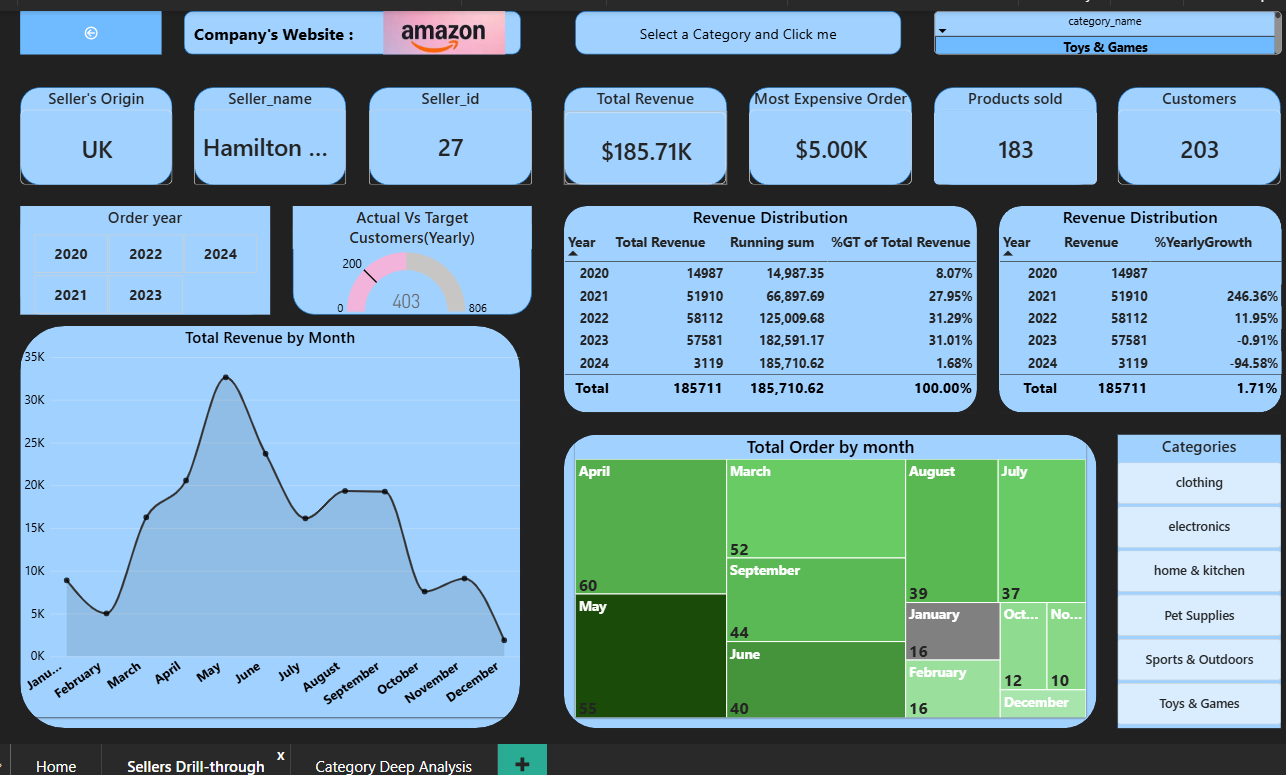

The page's visual inventory and layout, read from the dashboard file:
{"tool":"powerbi","page":{"name":"Sellers Drill-through","canvas":[1920,1080],"ordinal":1},"visuals":[{"type":"shape","box":[1472,288,416,304],"z":0},{"type":"shape","box":[832,288,608,304],"z":1000},{"type":"shape","box":[32,464,736,592],"z":2000},{"type":"shape","box":[1376,112,240,144],"z":3000},{"type":"shape","box":[432,288,352,160],"z":4000},{"type":"shape","box":[544,112,240,144],"z":5000},{"type":"shape","box":[1104,112,240,144],"z":6000},{"type":"shape","box":[848,0,480,64],"z":7000},{"type":"shape","box":[32,112,224,144],"z":8000},{"type":"shape","box":[288,112,224,144],"z":9000},{"type":"shape","box":[832,112,240,144],"z":10000},{"type":"shape","box":[272,0,496,64],"z":11000},{"type":"shape","box":[1648,112,240,144],"z":12000},{"type":"advancedSlicerVisual","title":"Seller_id","fields":{"Values":["sellers.seller_id"]},"box":[544,112,240,144],"z":13000},{"type":"advancedSlicerVisual","fields":{"Values":["sellers.seller_name"]},"box":[288,112,224,144],"z":14000},{"type":"cardVisual","title":"Total Revenue","fields":{"Data":["order_items.Total Across revenue"]},"box":[832,112,240,144],"z":15000},{"type":"actionButton","box":[32,0,208,64],"z":16000},{"type":"shape","box":[32,288,368,160],"z":17000},{"type":"shape","box":[832,624,784,432],"z":18000},{"type":"stackedAreaChart","fields":{"Category":["shipping.orders.order_date.Variation.Date Hierarchy.Month"],"Y":["_measures.Total Across revenue"]},"box":[32,464,736,576],"z":19000},{"type":"slicer","title":"Order year","fields":{"Values":["orders.Order_year"]},"box":[32,288,368,160],"z":20000},{"type":"cardVisual","title":"Customers","fields":{"Data":["Count(orders.customer_id)"]},"box":[1648,112,240,144],"z":21000},{"type":"cardVisual","title":"Most Expensive Order","fields":{"Data":["_measures.Maximum orderedamount"]},"box":[1104,112,240,144],"z":22000},{"type":"gauge","title":"Actual Vs Target Customers(Yearly)","fields":{"TargetValue":["_measures.Target Customers"],"Y":["CountNonNull(orders.customer_id)"]},"box":[432,288,352,160],"z":23000},{"type":"cardVisual","title":"Seller''s Origin","fields":{"Data":["Min(sellers.origin)"]},"box":[32,112,224,144],"z":24000},{"type":"cardVisual","title":"Products sold","fields":{"Data":["Count(order_items.product_id)"]},"box":[1376,112,240,144],"z":25000},{"type":"shape","box":[1648,624,240,432],"z":26000},{"type":"treemap","title":"Total Order by month","fields":{"Group":["shipping.orders.order_date.Variation.Date Hierarchy.Month"],"Values":["CountNonNull(order_items.order_id)"]},"box":[848,624,752,416],"z":27000},{"type":"advancedSlicerVisual","title":"Categories","fields":{"Values":["category.category_name"]},"box":[1648,624,240,432],"z":28000},{"type":"textbox","box":[288,16,304,48],"z":29000},{"type":"image","box":[560,0,192,64],"z":30000},{"type":"tableEx","fields":{"Values":["category.category_name"]},"box":[1376,0,512,64],"z":31000},{"type":"tableEx","title":"Revenue Distribution","fields":{"Values":["orders.order_date.Variation.Date Hierarchy.Year","_measures.Total Across revenue","select","select1","Sum(order_items.Total Revenue)"]},"box":[832,288,608,304],"z":32000},{"type":"tableEx","title":"Revenue Distribution","fields":{"Values":["orders.order_date.Variation.Date Hierarchy.Year","_measures.Total Across revenue","select1","_measures.Total Revenue{Lag}"]},"box":[1472,288,416,304],"z":33000}]}

Visuals, with their boxes in screenshot pixels (x1, y1, x2, y2):
shape: (left=998, top=204, right=1283, bottom=412)
shape: (left=560, top=204, right=976, bottom=412)
shape: (left=12, top=324, right=516, bottom=730)
shape: (left=932, top=83, right=1097, bottom=182)
shape: (left=286, top=204, right=527, bottom=313)
shape: (left=362, top=83, right=527, bottom=182)
shape: (left=746, top=83, right=910, bottom=182)
shape: (left=571, top=7, right=899, bottom=51)
shape: (left=12, top=83, right=165, bottom=182)
shape: (left=187, top=83, right=341, bottom=182)
shape: (left=560, top=83, right=724, bottom=182)
shape: (left=176, top=7, right=516, bottom=51)
shape: (left=1119, top=83, right=1283, bottom=182)
"Seller_id" advancedSlicerVisual: (left=362, top=83, right=527, bottom=182)
advancedSlicerVisual - sellers.seller_name: (left=187, top=83, right=341, bottom=182)
"Total Revenue" cardVisual: (left=560, top=83, right=724, bottom=182)
actionButton: (left=12, top=7, right=154, bottom=51)
shape: (left=12, top=204, right=264, bottom=313)
shape: (left=560, top=434, right=1097, bottom=730)
stackedAreaChart - shipping.orders.order_date.Variation.Date Hierarchy.Month x _measures.Total Across revenue: (left=12, top=324, right=516, bottom=719)
"Order year" slicer: (left=12, top=204, right=264, bottom=313)
"Customers" cardVisual: (left=1119, top=83, right=1283, bottom=182)
"Most Expensive Order" cardVisual: (left=746, top=83, right=910, bottom=182)
"Actual Vs Target Customers(Yearly)" gauge: (left=286, top=204, right=527, bottom=313)
"Seller''s Origin" cardVisual: (left=12, top=83, right=165, bottom=182)
"Products sold" cardVisual: (left=932, top=83, right=1097, bottom=182)
shape: (left=1119, top=434, right=1283, bottom=730)
"Total Order by month" treemap: (left=571, top=434, right=1086, bottom=719)
"Categories" advancedSlicerVisual: (left=1119, top=434, right=1283, bottom=730)
textbox: (left=187, top=18, right=395, bottom=51)
image: (left=373, top=7, right=505, bottom=51)
tableEx - category.category_name: (left=932, top=7, right=1283, bottom=51)
"Revenue Distribution" tableEx: (left=560, top=204, right=976, bottom=412)
"Revenue Distribution" tableEx: (left=998, top=204, right=1283, bottom=412)
